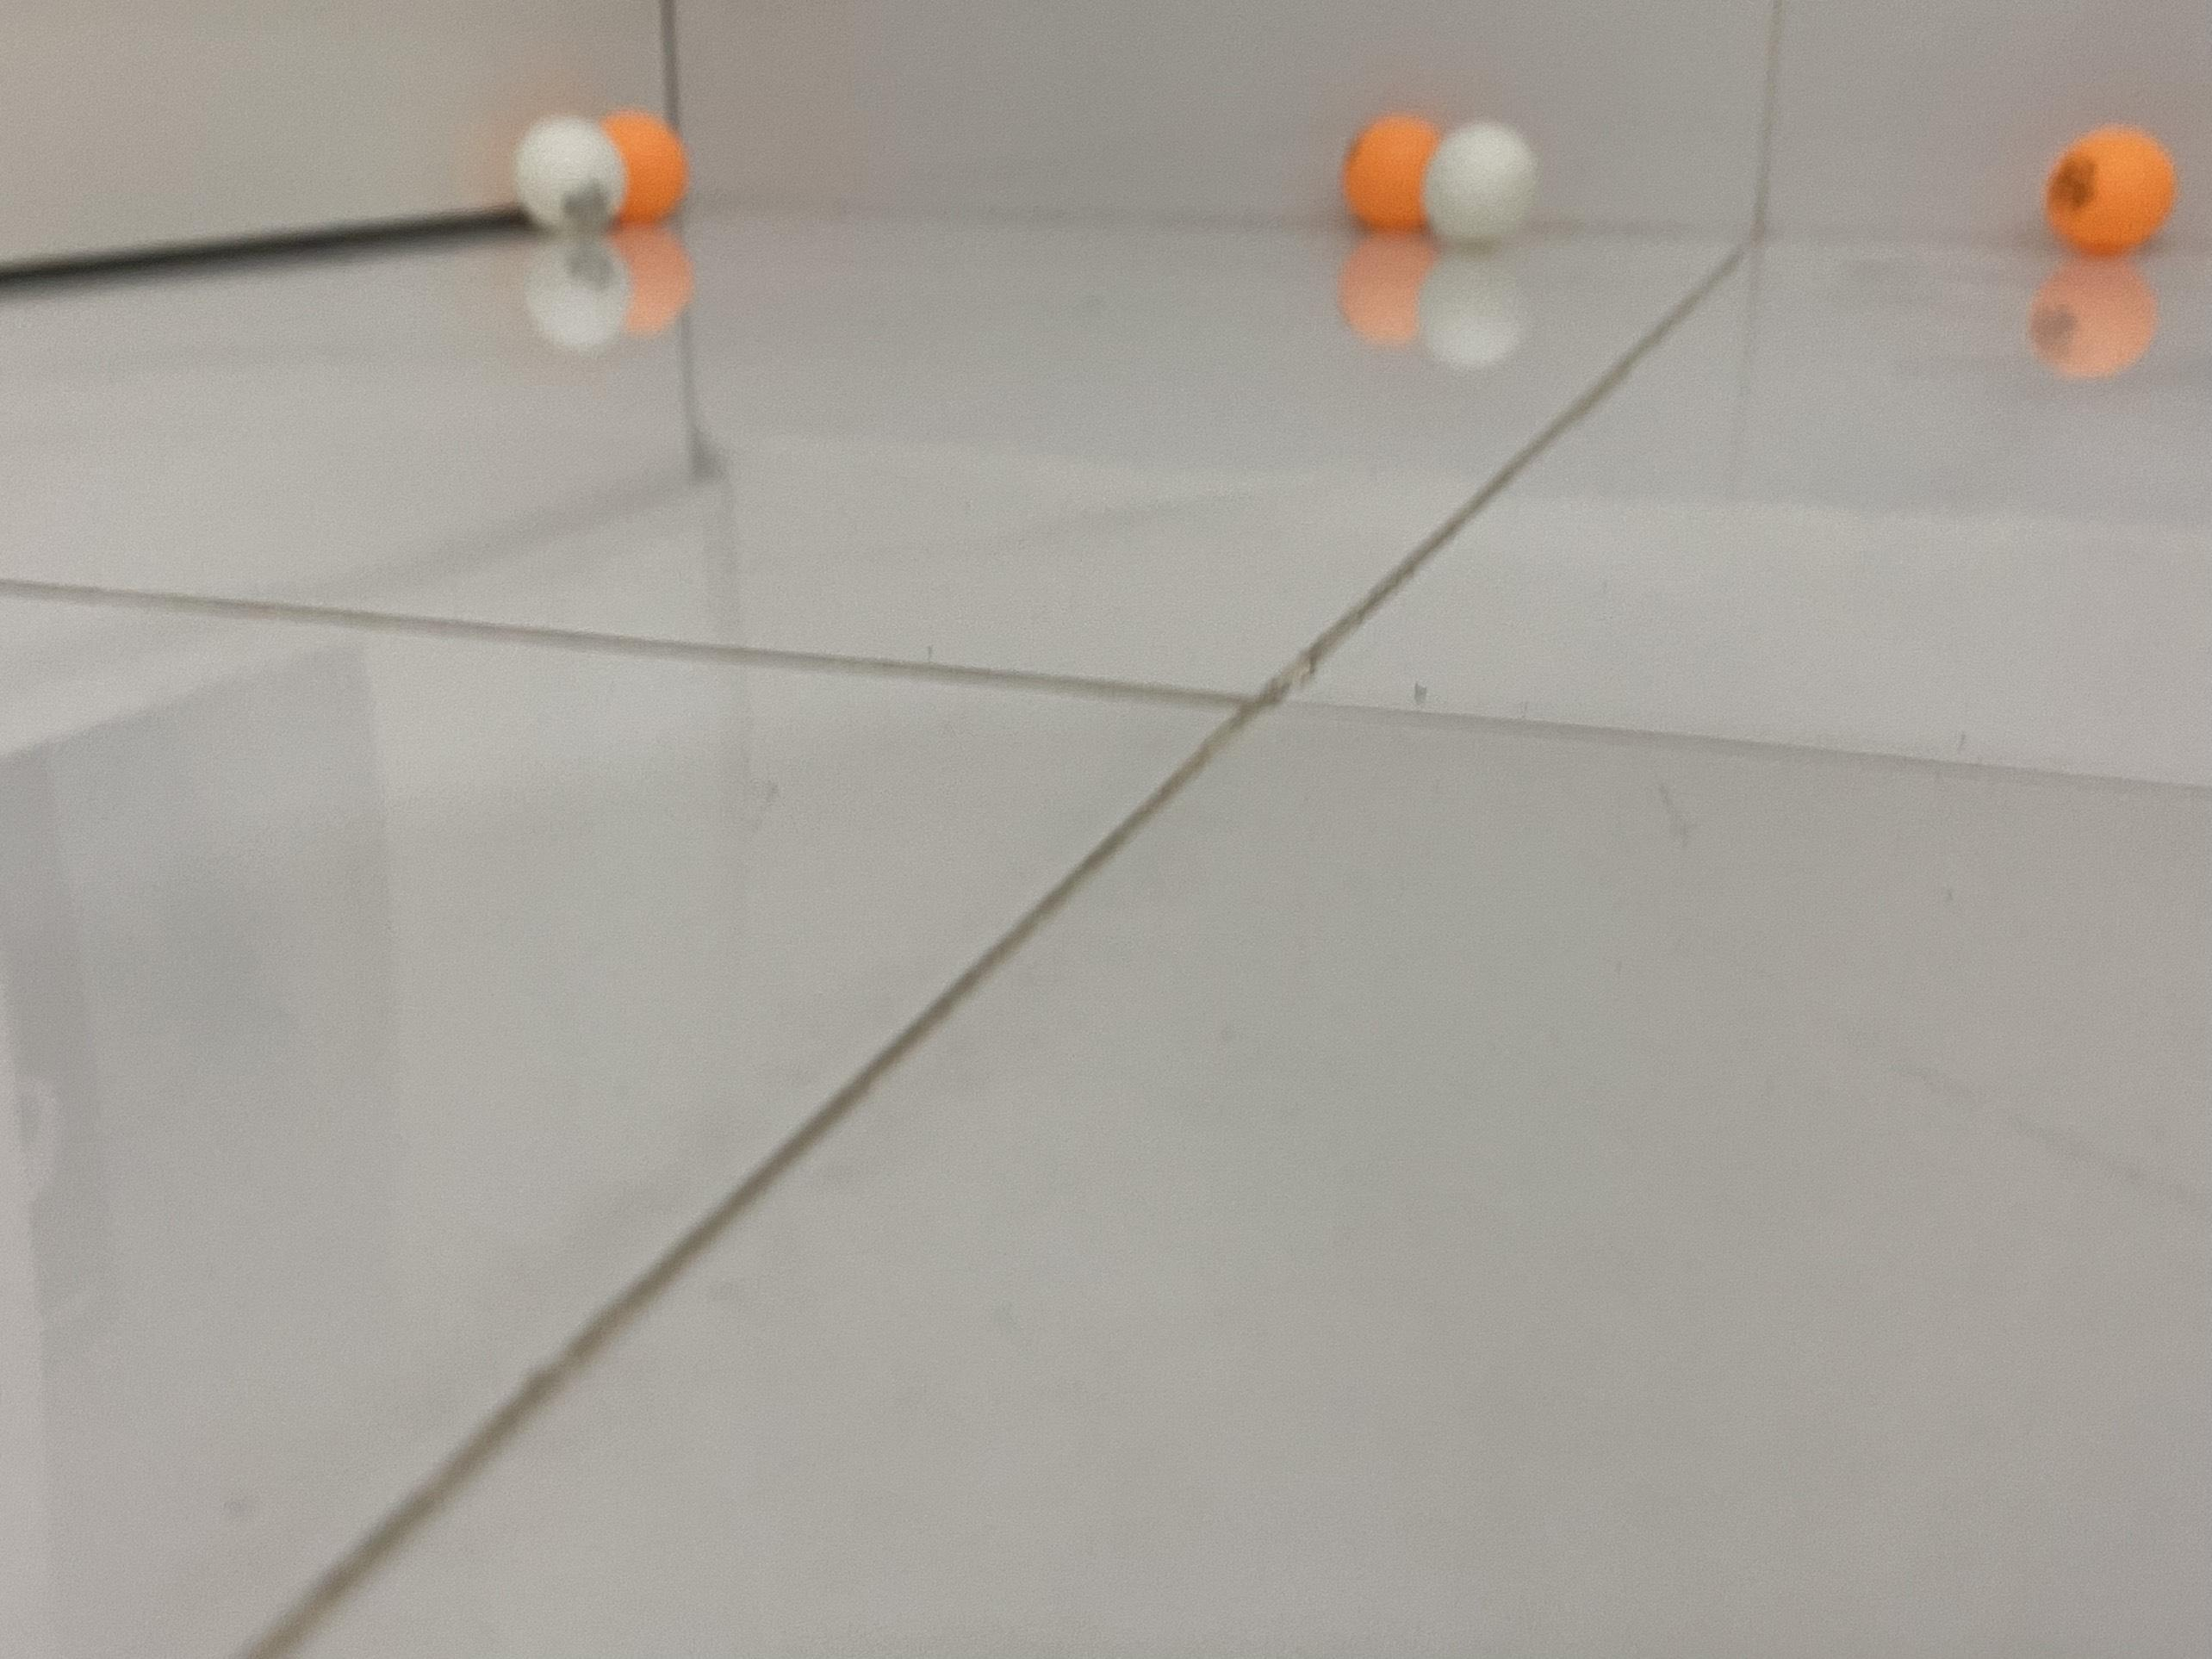oball: (2047, 122, 2179, 254), (1338, 113, 1456, 232), (573, 103, 693, 218)
